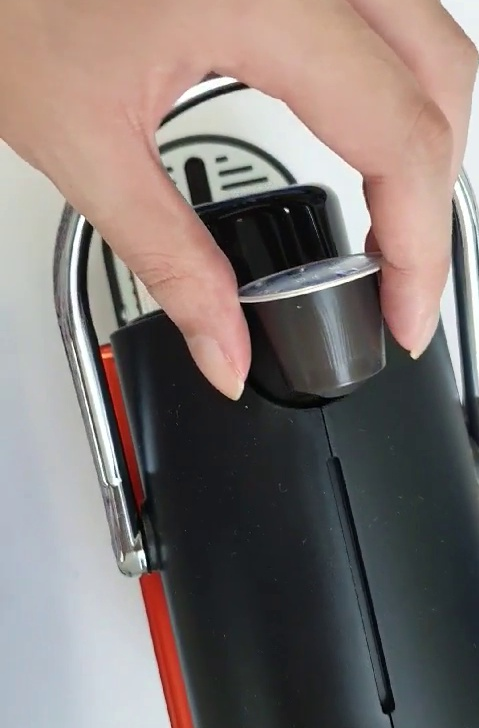capsule_4: (239, 244, 397, 400)
